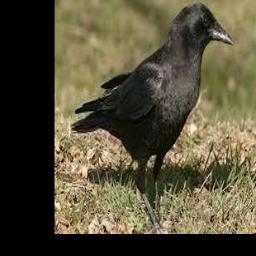Crow: (73, 1, 233, 234)
